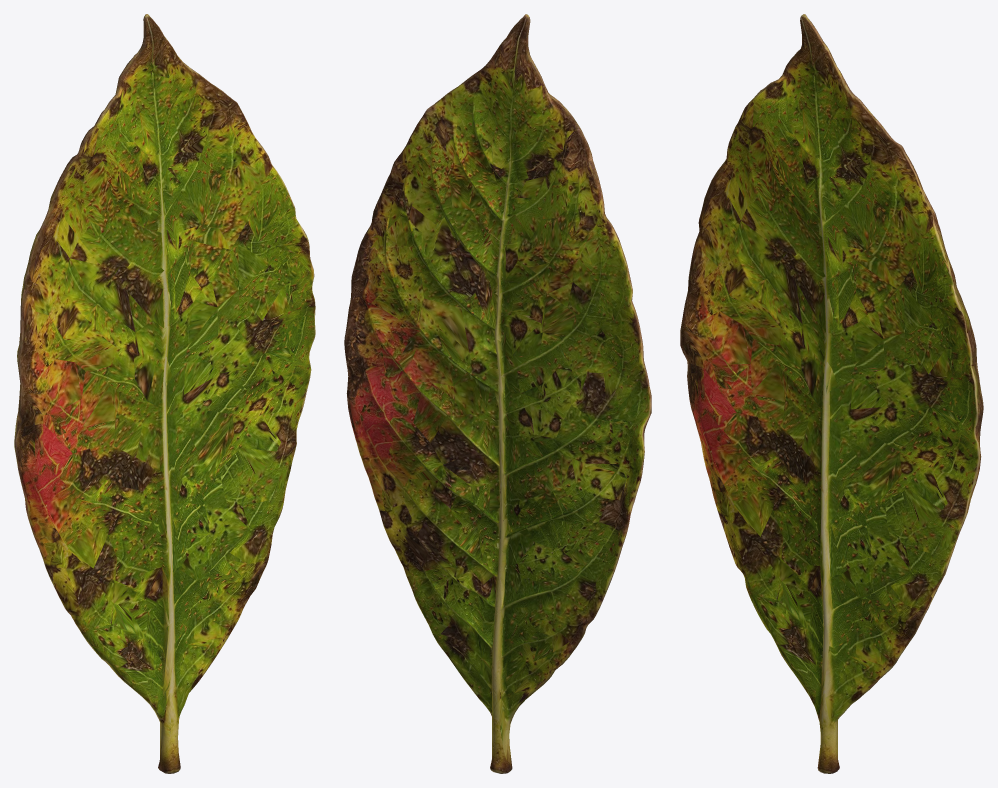
File: blueberry_rust.glb
The picture shows the model from 3 angles, left to right: view 1: azimuth 30°, elevation 25°; view 2: azimuth 150°, elevation 25°; view 3: azimuth 330°, elevation 25°; orthographic projection.
Parts seen in each view (by area): view 1: blueberry_rust; view 2: blueberry_rust; view 3: blueberry_rust.
Part boxes in pixels (x1,y1,x2,y2): blueberry_rust: (14,14,315,773); blueberry_rust: (344,14,651,773); blueberry_rust: (680,14,983,773).
Size of the model in its own units: 0.4111 by 1 by 0.0406.
Materials: 1 (1 with a texture image).
